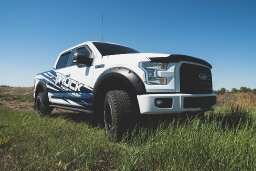car: (29, 39, 222, 137)
